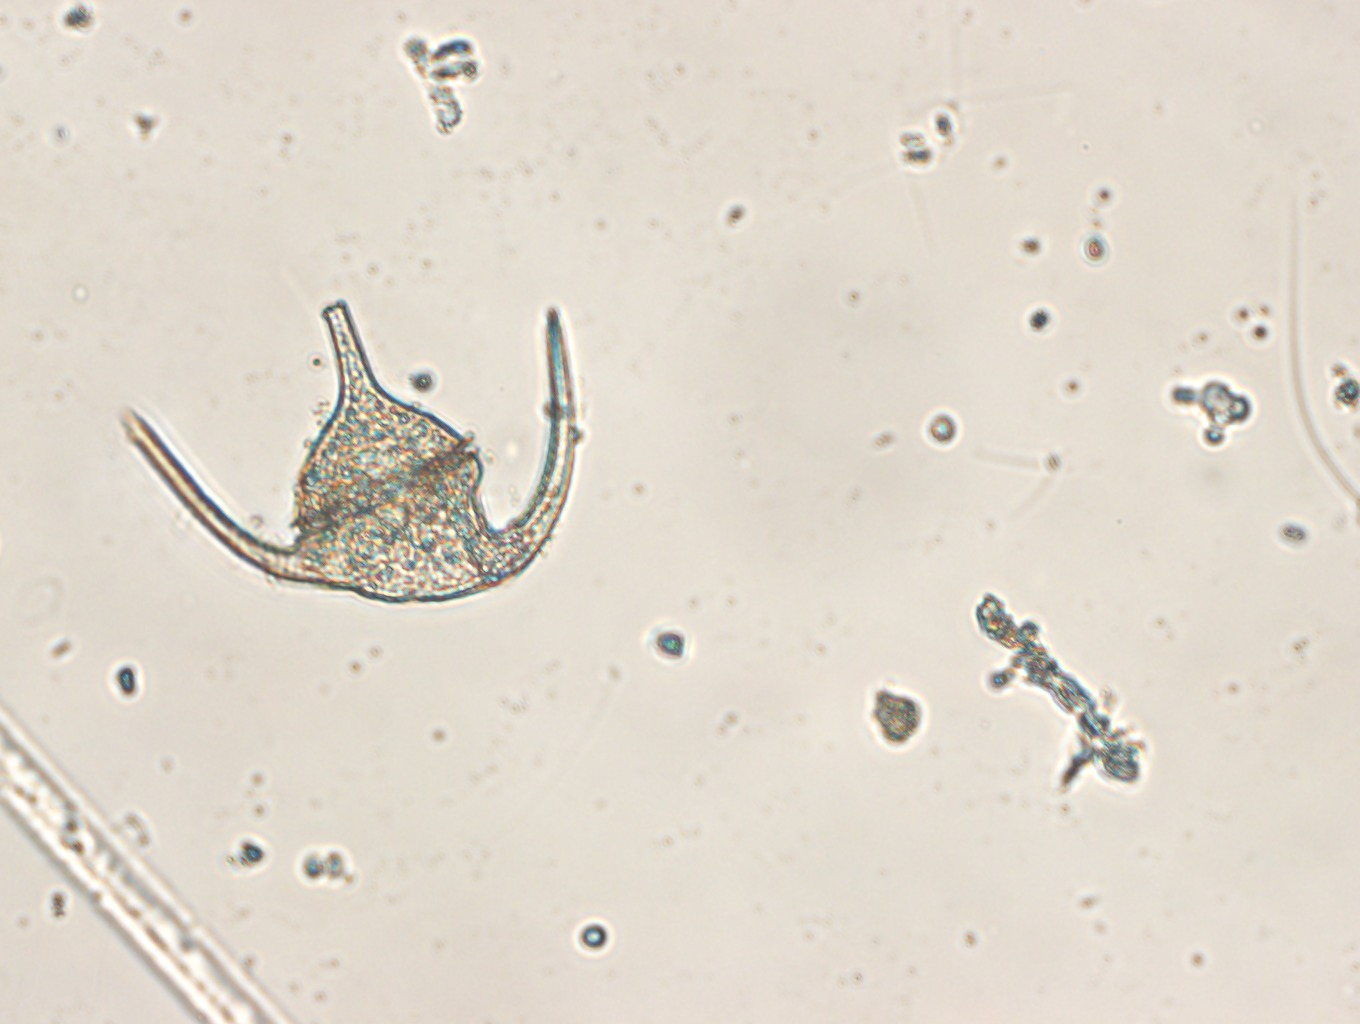ceratium tripos: (118, 295, 576, 605)
